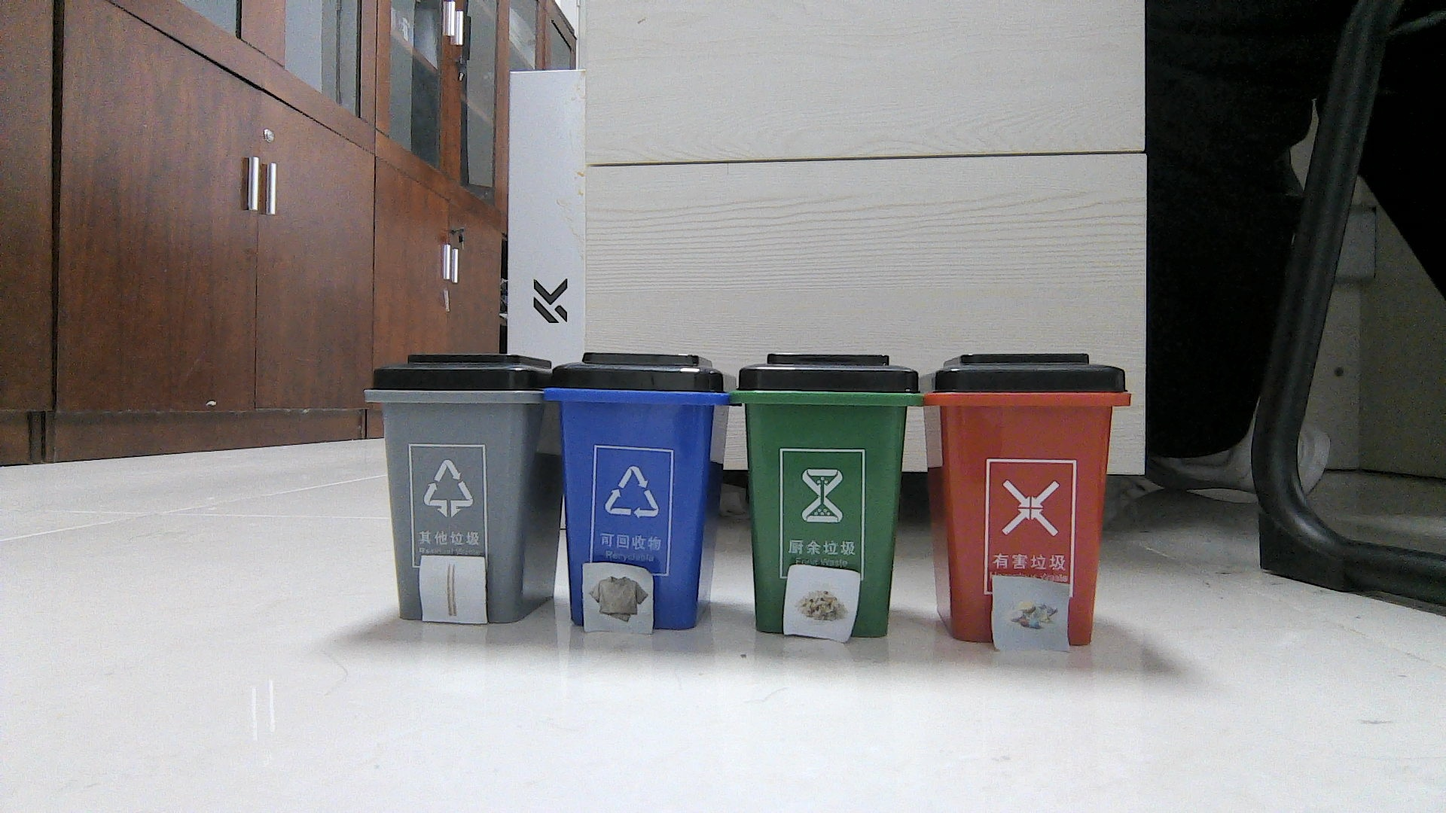food_trash: (789, 571, 855, 636)
hazardous_trash: (997, 581, 1064, 646)
other_trash: (422, 559, 482, 619)
recyclable_trash: (586, 565, 649, 630)
